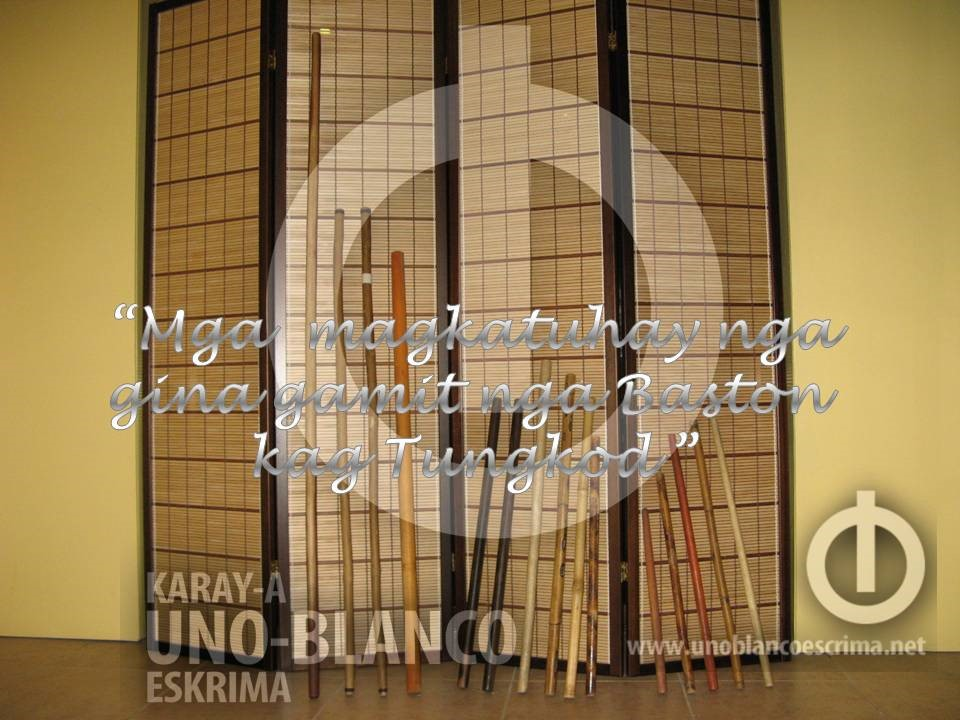baston_e: (707, 422, 777, 680), (666, 438, 722, 684), (689, 430, 744, 680), (454, 401, 499, 678), (484, 405, 526, 686), (655, 477, 697, 687), (641, 513, 667, 687), (583, 440, 600, 689)
baston_v: (404, 685, 426, 698), (705, 682, 722, 695), (763, 679, 778, 693), (389, 247, 405, 260), (654, 687, 669, 700), (341, 685, 356, 698), (582, 688, 598, 700), (561, 690, 576, 702), (358, 204, 373, 216), (541, 687, 557, 698), (684, 685, 698, 697), (733, 682, 748, 693), (563, 371, 578, 381), (514, 686, 529, 696), (540, 355, 553, 366), (307, 692, 321, 702), (332, 206, 346, 216), (455, 680, 467, 691), (583, 395, 596, 405), (480, 684, 494, 693), (377, 689, 389, 699), (687, 418, 698, 428), (512, 395, 523, 405), (310, 29, 322, 38), (590, 433, 601, 442), (654, 469, 664, 478), (667, 430, 676, 438), (491, 395, 502, 401), (641, 506, 648, 513), (708, 416, 717, 421)
